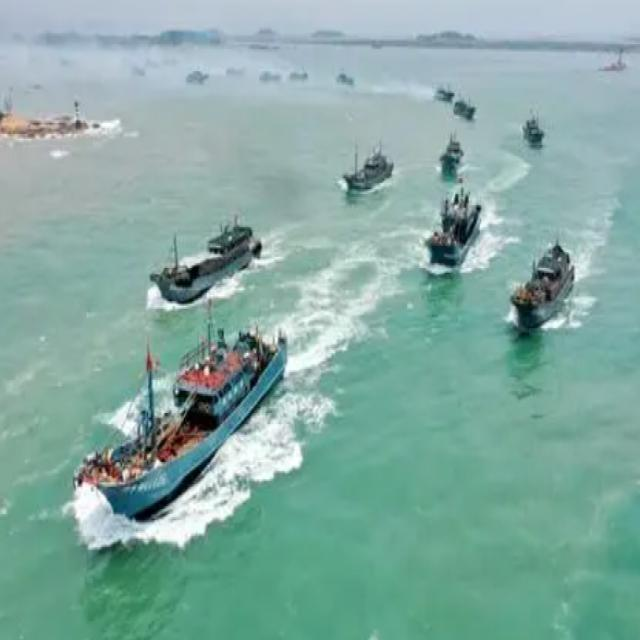fishing boat: (75, 316, 291, 510), (151, 204, 257, 306), (505, 239, 578, 330), (424, 182, 486, 269), (337, 136, 392, 189), (521, 109, 547, 148), (440, 137, 464, 177), (598, 44, 628, 71), (448, 98, 483, 121), (332, 68, 358, 85), (184, 67, 210, 84), (257, 70, 284, 86), (432, 84, 458, 100), (222, 64, 248, 76), (291, 68, 312, 81)
